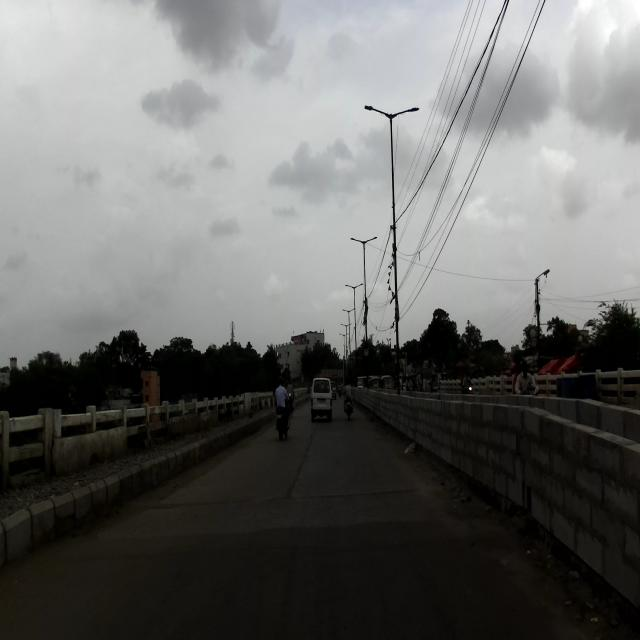car: (310, 376, 333, 422)
